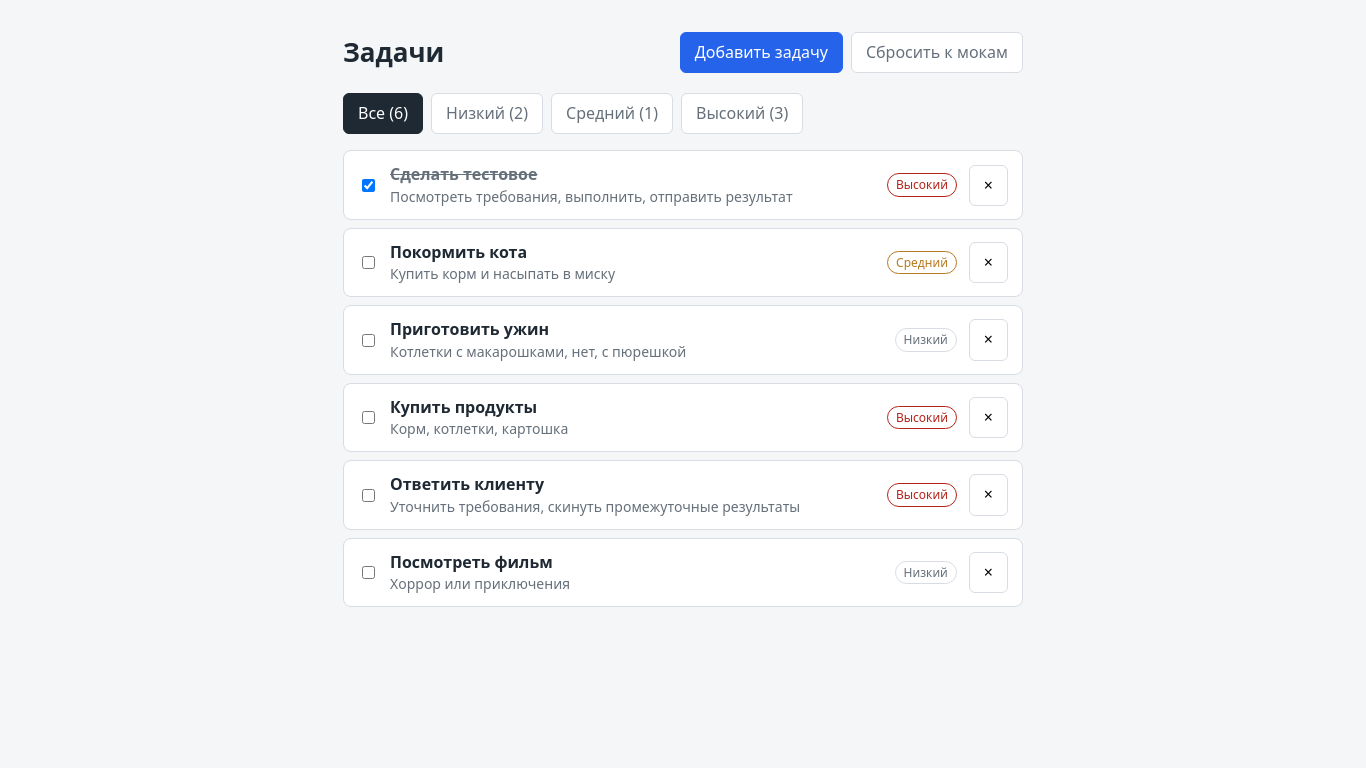
it: App › добавляет задачу через модалку и пересчитывает счётчик
This screenshot has width=1366, height=768.
Click the button "Добавить задачу". click: (761, 53)
box: [680,32,843,73]
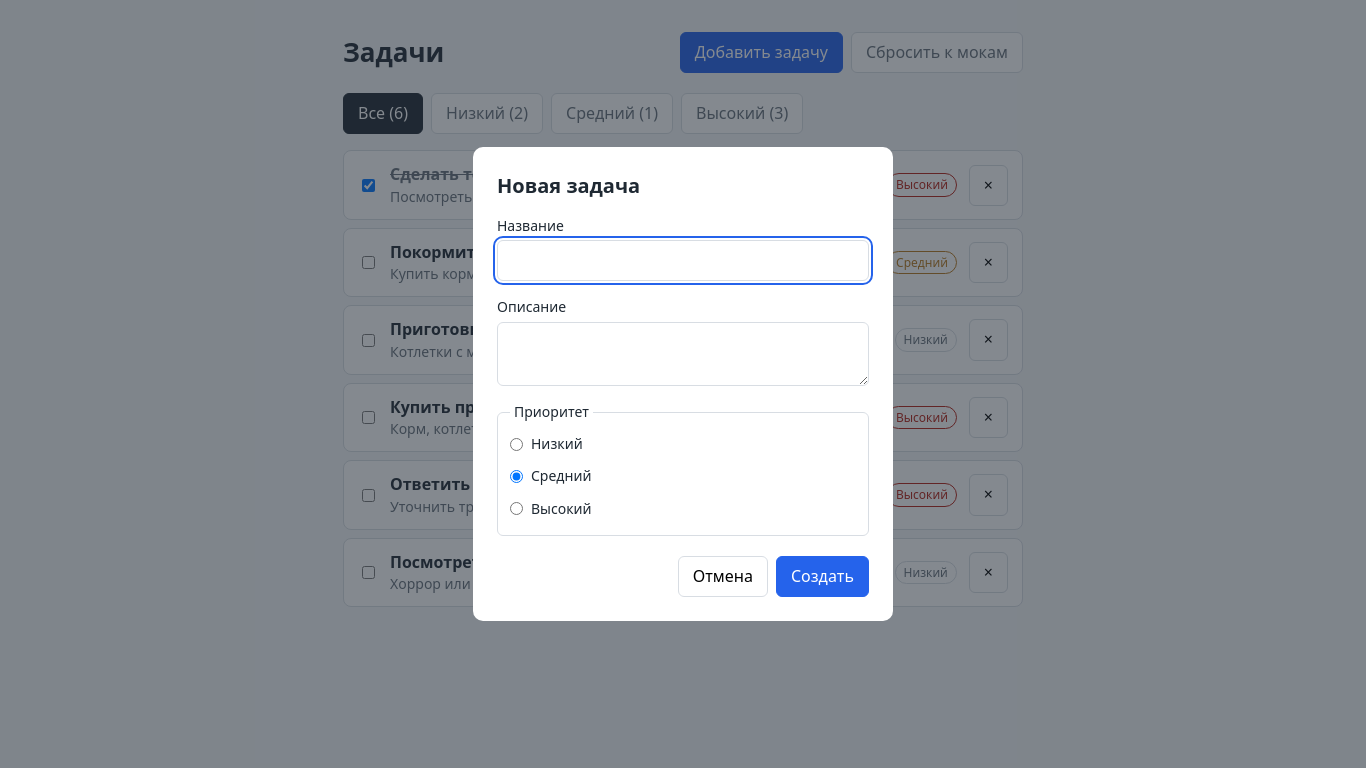
Type "Новая задача" into the field labelled "Название". click: (683, 261)
box: [497,240,869,281]
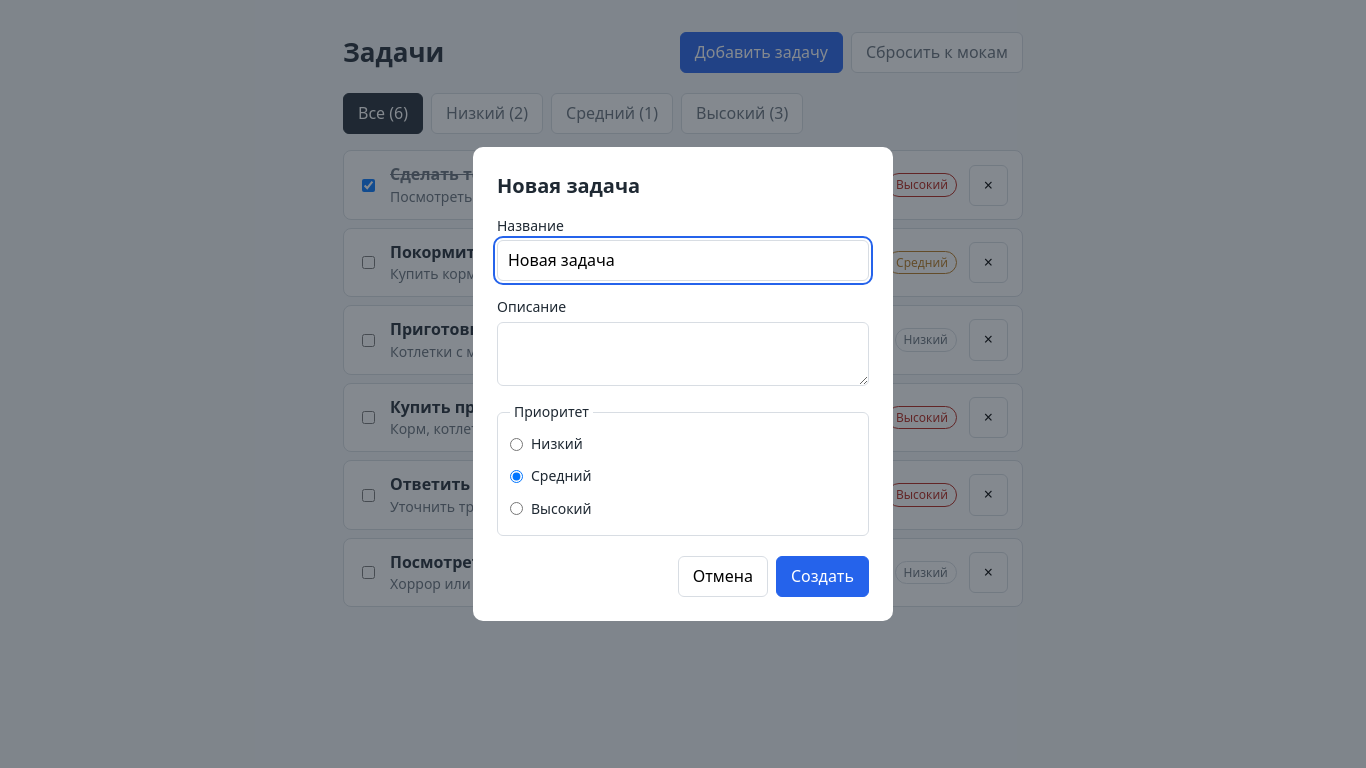
Type "Описание задачи" into the text box labelled "Описание". click: (683, 354)
box: [497,322,869,386]
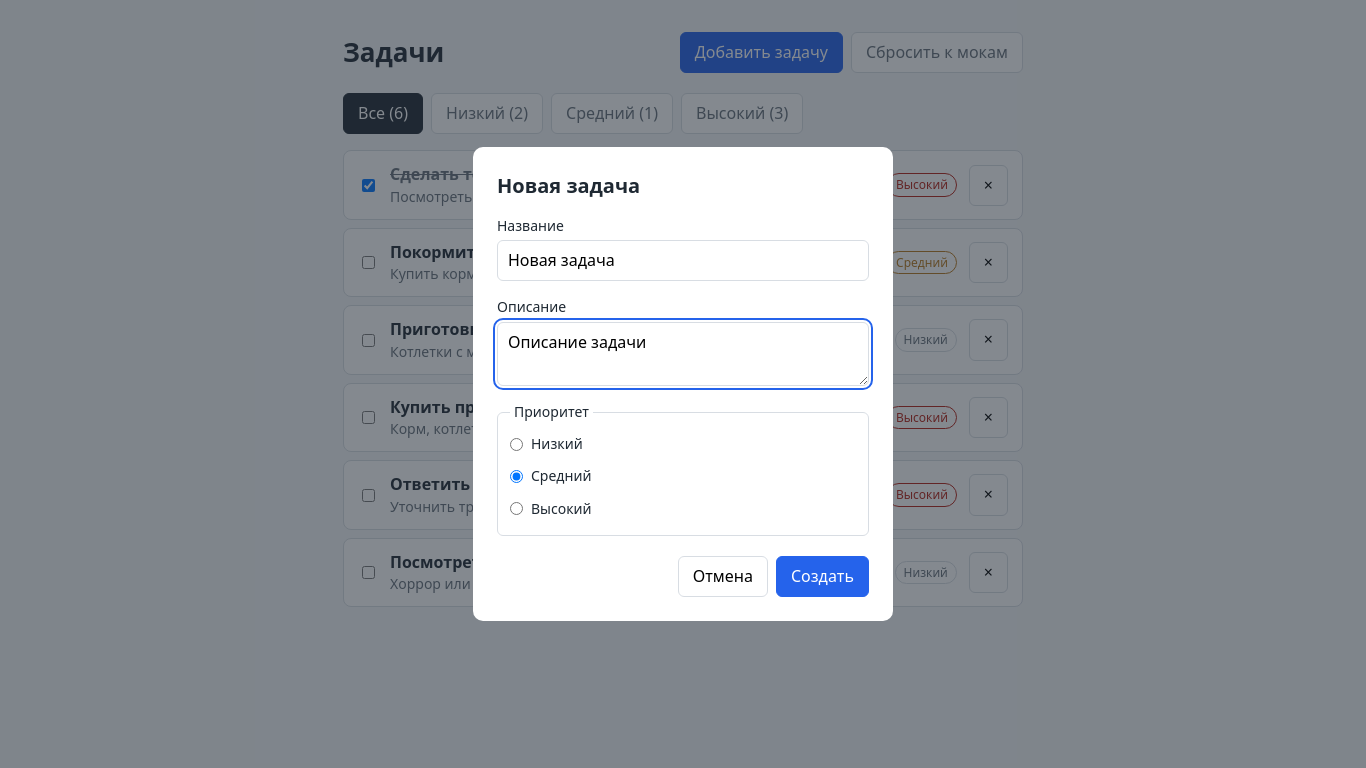
Click the radio button labelled "Высокий". click: (516, 509)
box: [510,502,523,515]
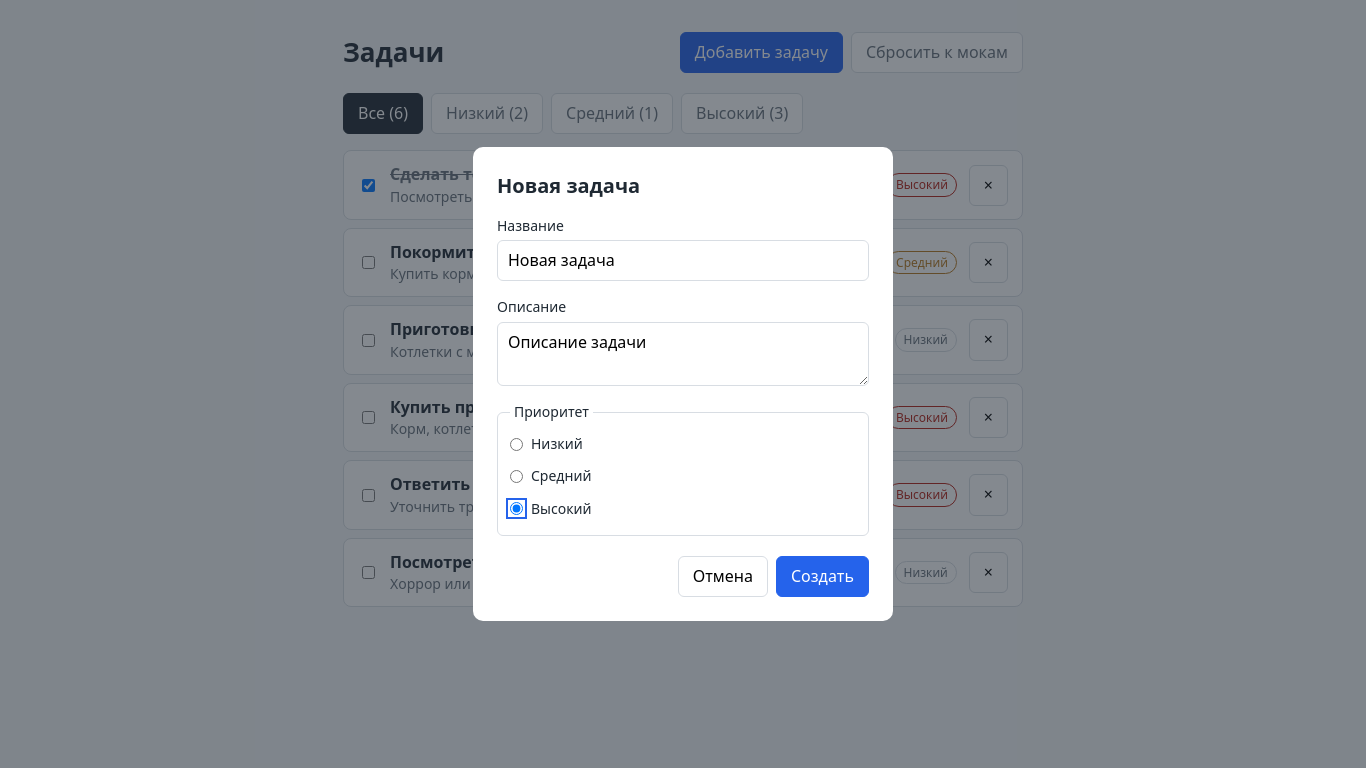
Click the button "Создать". click: (822, 577)
box: [776,556,869,597]
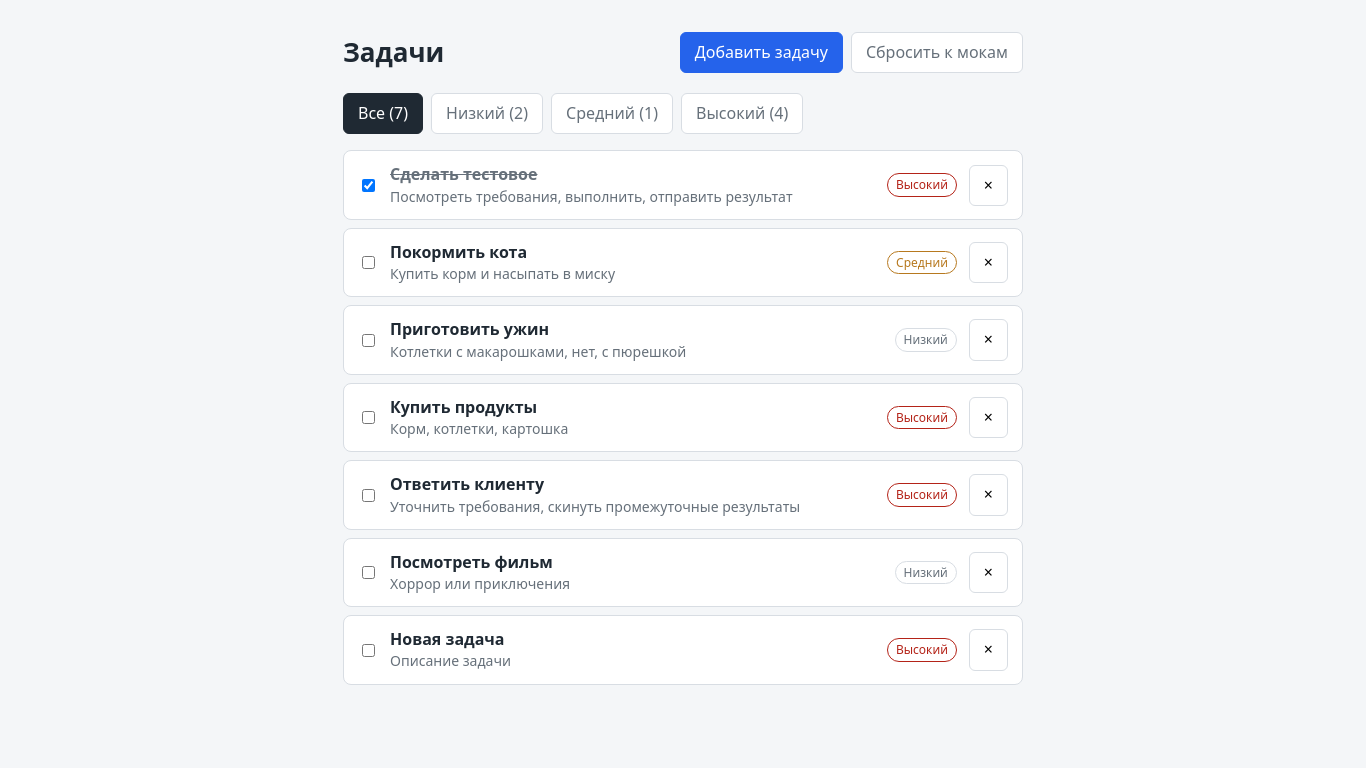
Now the text "Новая задача" is shown, box [390,628,504,650]
Now the button "Высокий (4)" is shown, box [681,93,803,134]
